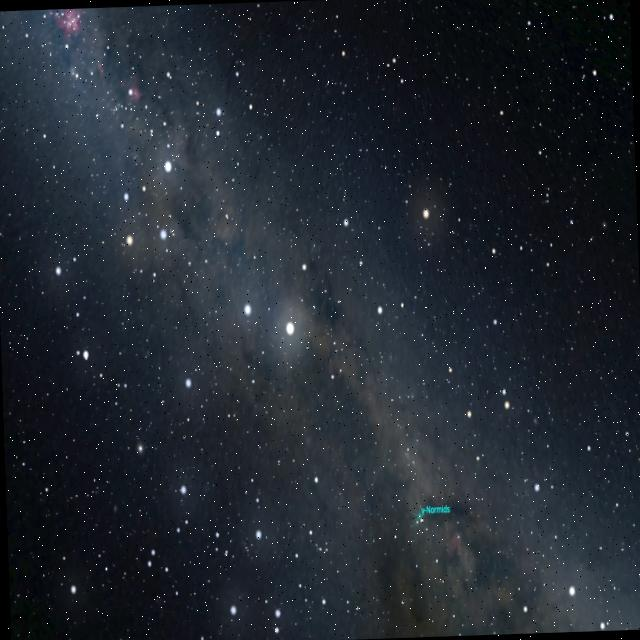Circinus: (294, 241, 348, 398)
